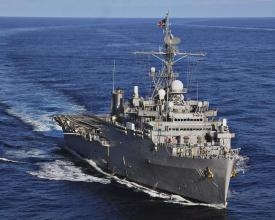warship: (52, 8, 248, 207)
